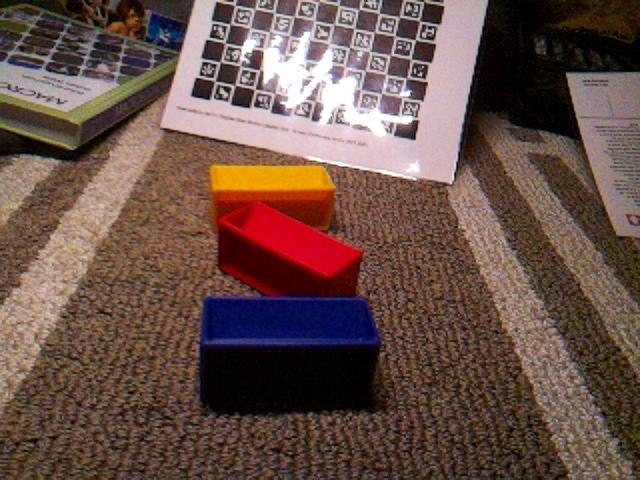blue: (197, 294, 382, 413)
red: (216, 200, 364, 298)
yellow: (208, 163, 337, 234)
